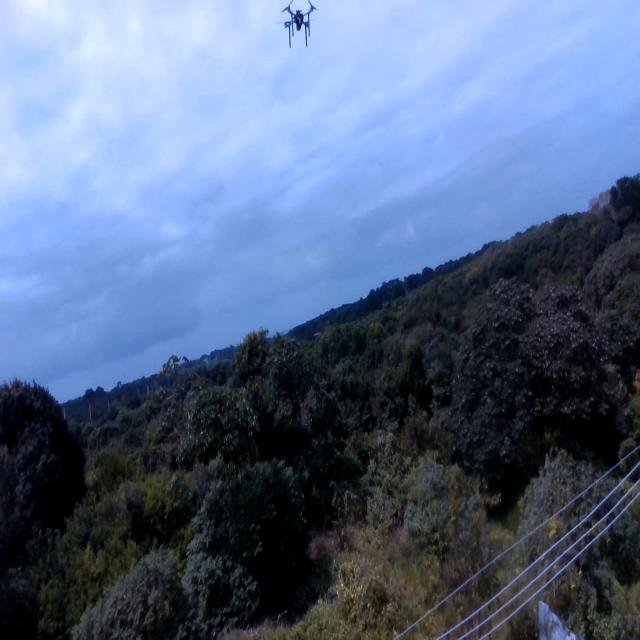-uav-: (279, 1, 321, 54)
